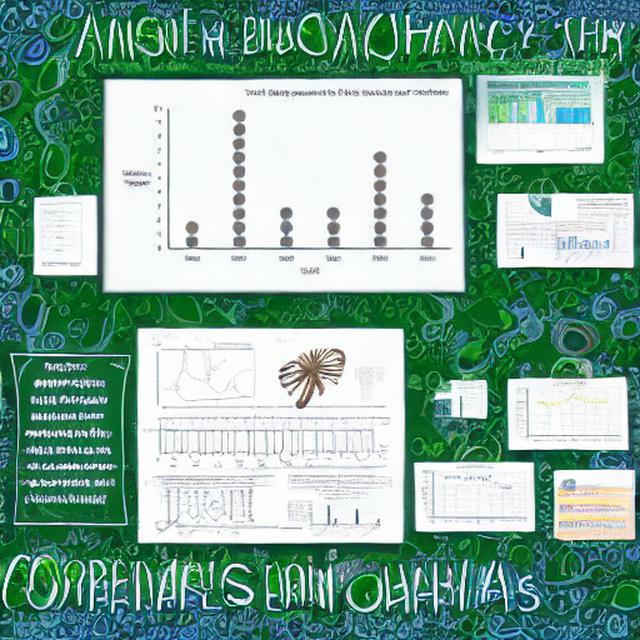Graph: (109, 80, 459, 284), (512, 382, 624, 448), (418, 464, 530, 530), (303, 491, 383, 540), (546, 225, 610, 264)
